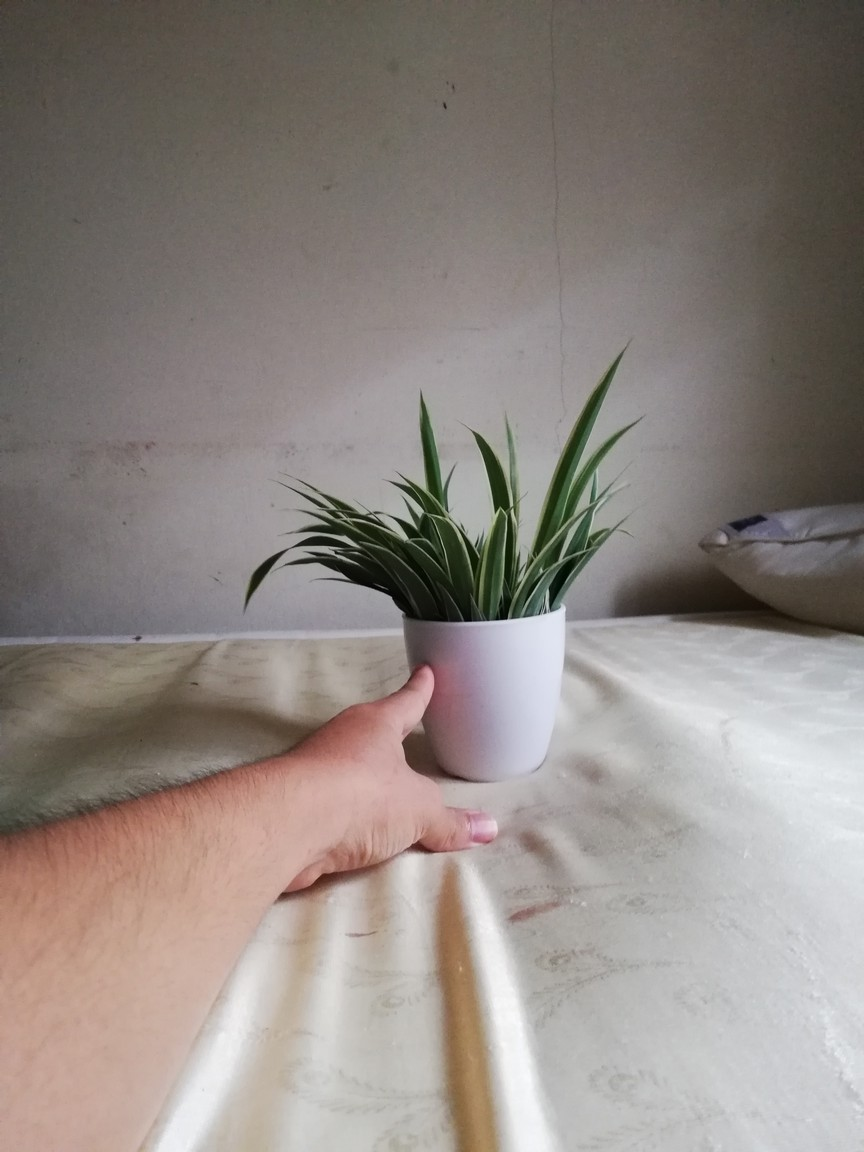daun: (573, 331, 638, 419), (460, 418, 505, 494), (596, 408, 652, 462), (550, 495, 609, 545), (418, 383, 441, 478), (485, 501, 509, 590), (278, 469, 337, 505), (241, 557, 272, 622), (503, 404, 523, 488), (358, 539, 404, 571), (435, 579, 463, 624), (555, 546, 598, 571), (284, 505, 339, 524), (268, 479, 313, 502), (608, 455, 639, 485), (443, 460, 464, 501), (618, 499, 647, 527), (397, 491, 422, 523), (354, 497, 382, 524), (395, 468, 424, 494), (274, 522, 326, 536), (381, 477, 419, 494), (466, 590, 485, 623), (612, 527, 642, 543), (515, 547, 522, 570), (458, 517, 468, 533), (518, 560, 530, 573), (480, 528, 487, 548)
